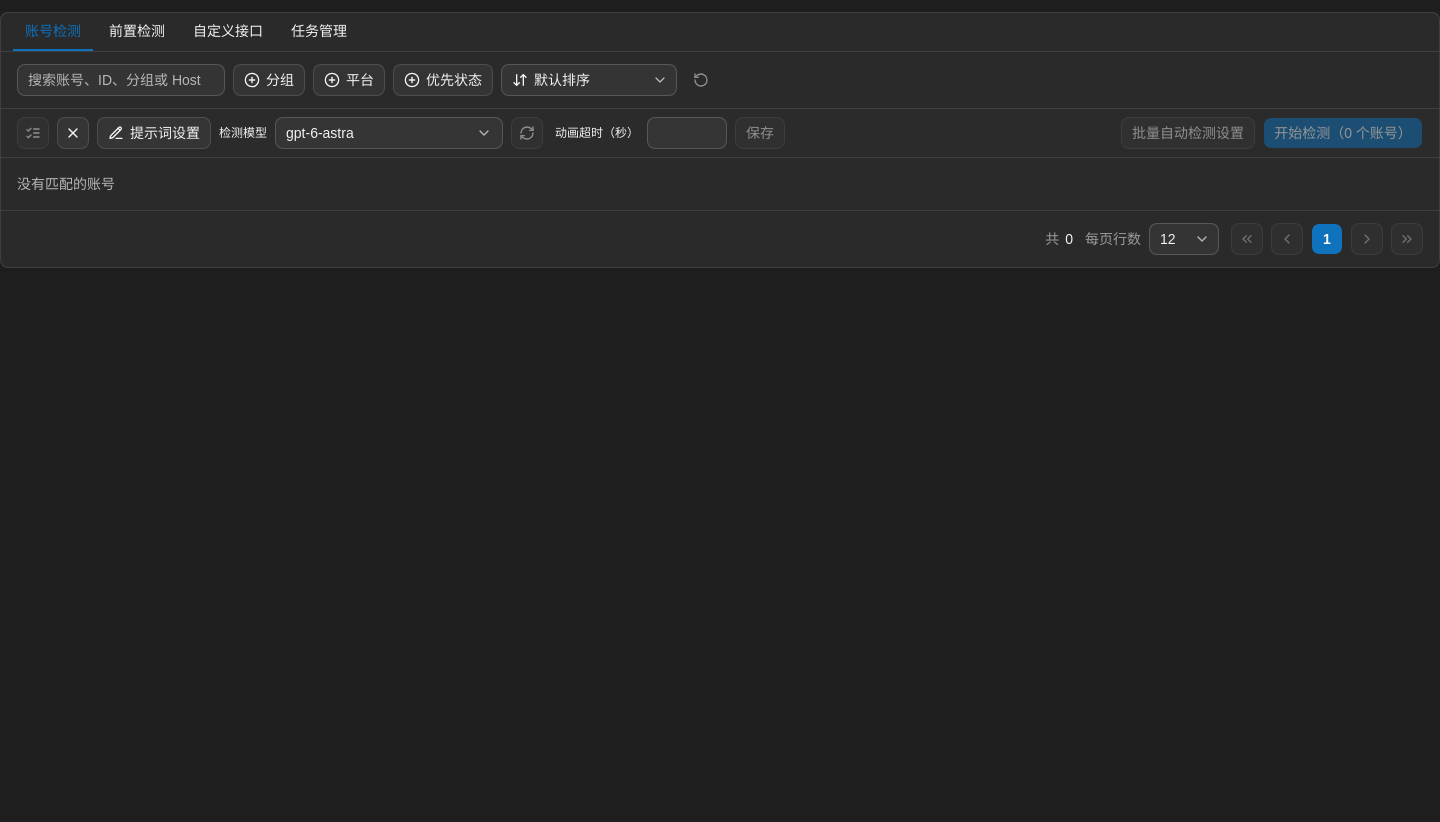
Test case: 旧记录未保存接口地址时明确显示未记录
This screenshot has width=1440, height=822.
Click the tab "自定义接口". click: (228, 32)
box: [181,13,275,51]
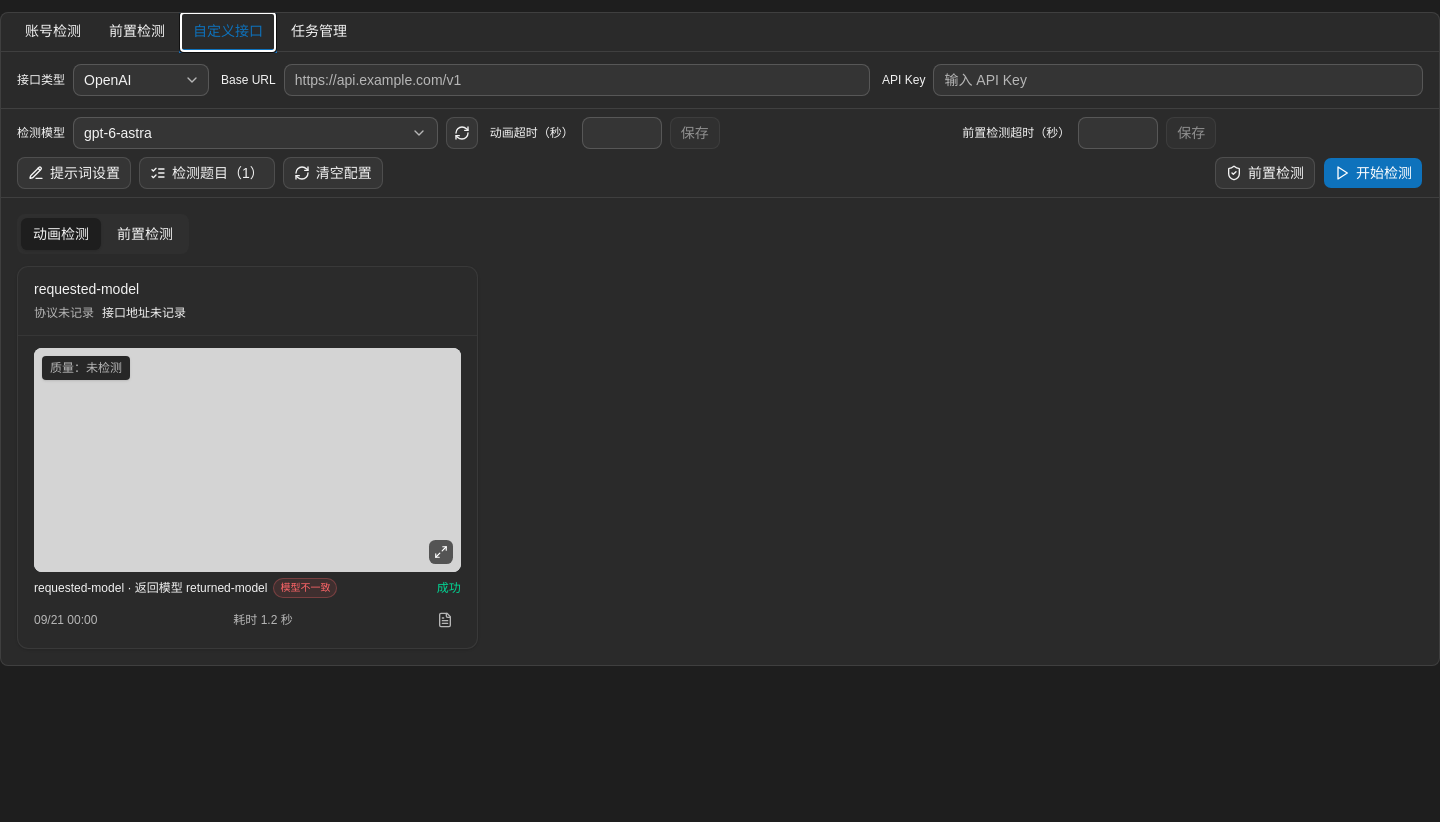
Expected: the element named "自定义检测 requested-model" shows "接口地址未记录", [102,306,186,320]
